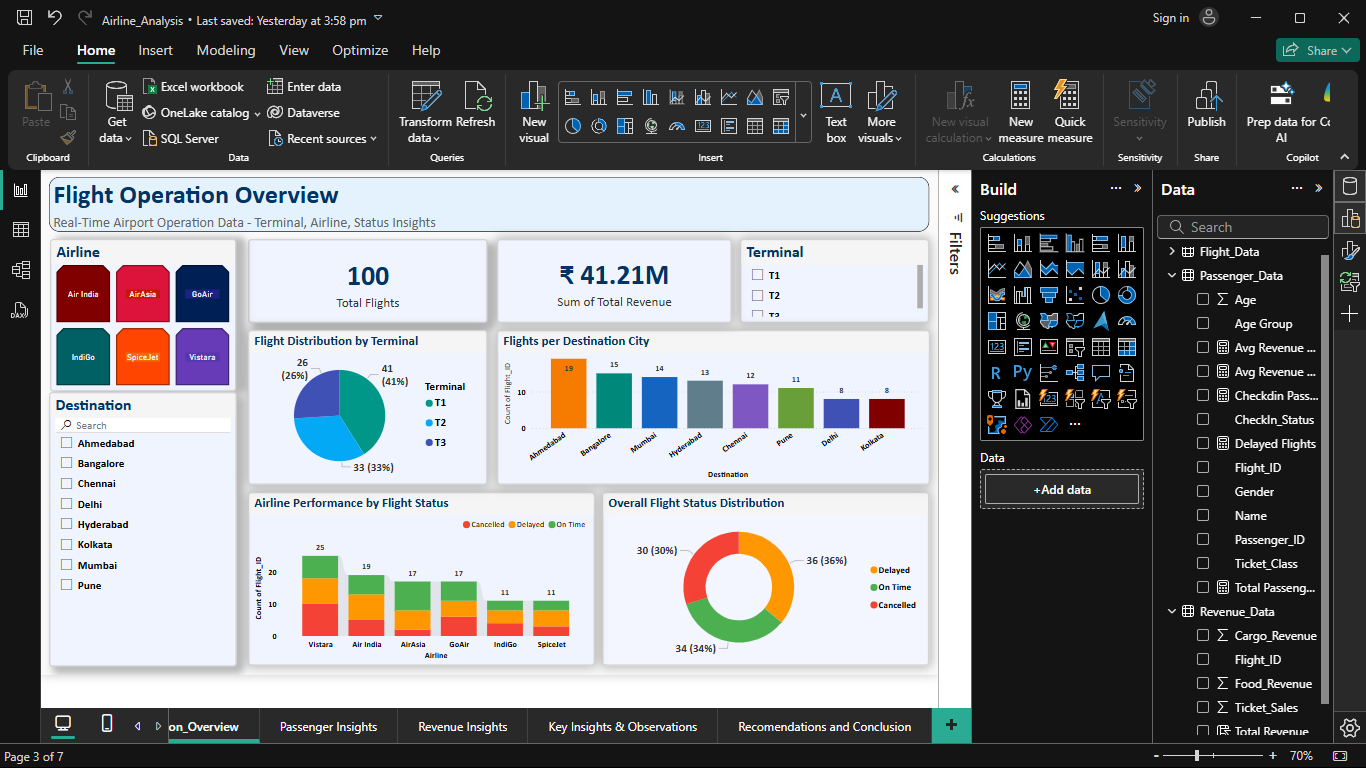

The page's visual inventory and layout, read from the dashboard file:
{"tool":"powerbi","page":{"name":"Flight_Operation_Overview","canvas":[1280,720],"ordinal":2},"visuals":[{"type":"textbox","title":"Flight Operation Overview","box":[11.4,10,1255.7,78.5],"z":0},{"type":"card","fields":{"Values":["Flight_Data.Total Flights"]},"box":[295.4,98.5,342.5,119.9],"z":1000},{"type":"donutChart","title":"Overall Flight Status Distribution","fields":{"Category":["Flight_Data.Status"],"Y":["CountNonNull(Flight_Data.Flight_ID)"]},"box":[800.9,459.4,466.6,248.5],"z":2000},{"type":"columnChart","title":"Airline Performance by Flight Status","fields":{"Category":["Flight_Data.Airline"],"Y":["CountNonNull(Flight_Data.Flight_ID)"],"Series":["Flight_Data.Status"]},"box":[295,459.4,495.2,248.5],"z":3000},{"type":"advancedSlicerVisual","fields":{"Values":["Flight_Data.Airline"]},"box":[12.5,98.3,266.4,218.1],"z":4000},{"type":"slicer","title":"Terminal","fields":{"Values":["Flight_Data.Terminal"]},"box":[997.5,98.3,269.9,119.8],"z":5000},{"type":"slicer","title":"Destination","fields":{"Values":["Flight_Data.Destination"]},"box":[10.7,316.4,268.2,391.5],"z":6000},{"type":"pieChart","title":"Flight Distribution by Terminal","fields":{"Category":["Flight_Data.Terminal"],"Y":["CountNonNull(Flight_Data.Flight_ID)"]},"box":[295.4,228.3,342.5,221.2],"z":7000},{"type":"clusteredColumnChart","title":"Flights per Destination City","fields":{"Category":["Flight_Data.Destination"],"Y":["Count(Flight_Data.Flight_ID)"]},"box":[650.7,228.3,617.9,221.2],"z":8000},{"type":"card","fields":{"Values":["Sum(Revenue_Data.Total Revenue)"]},"box":[650.7,98.5,335.3,119.9],"z":9000}]}

Visuals, with their boxes on the page's 1280x720 design canvas (x1, y1, x2, y2). These are canvas units, not pixel positions in the 1366x768 screenshot, which may show the page scaled, cropped or inside an application window:
"Flight Operation Overview" textbox: 11 10 1267 88
card - Flight_Data.Total Flights: 295 98 638 218
"Overall Flight Status Distribution" donutChart: 801 459 1268 708
"Airline Performance by Flight Status" columnChart: 295 459 790 708
advancedSlicerVisual - Flight_Data.Airline: 12 98 279 316
"Terminal" slicer: 998 98 1267 218
"Destination" slicer: 11 316 279 708
"Flight Distribution by Terminal" pieChart: 295 228 638 450
"Flights per Destination City" clusteredColumnChart: 651 228 1269 450
card - Sum(Revenue_Data.Total Revenue): 651 98 986 218
